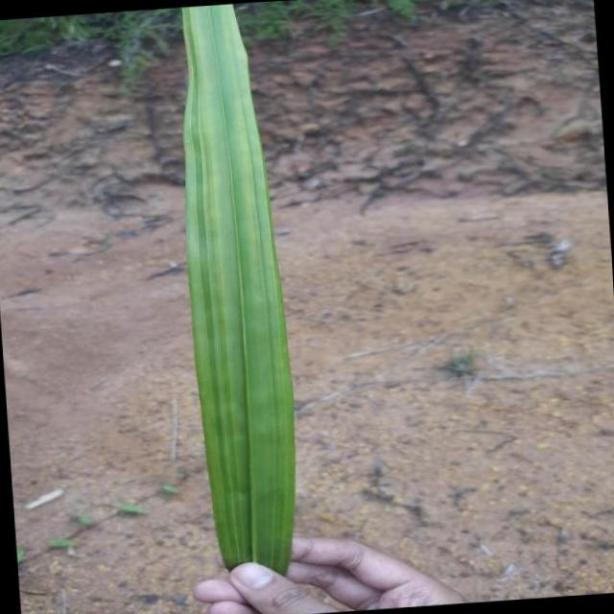nitrogen: (178, 0, 296, 572)
